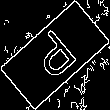P_SE: (26, 24, 84, 86)
